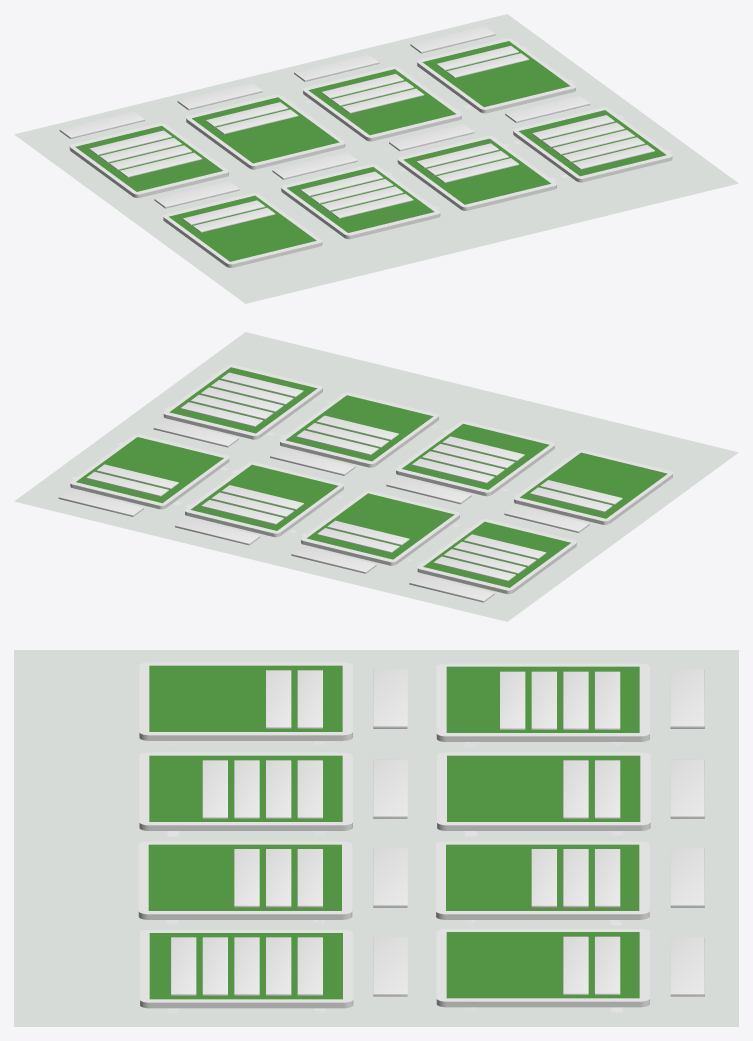
Rendered from notice_board.glb.
The picture shows the model from 3 angles, top to bottom: view 1: azimuth 30°, elevation 25°; view 2: azimuth 150°, elevation 25°; view 3: azimuth 270°, elevation 25°; orthographic projection. The views are drawn at different scales.
Parts seen in each view (by area): view 1: Plane, Plane.011, Plane.009, Plane.001, Plane.013, Plane.015, Plane.003, Plane.008, Plane.005, Cube.020, Cube.036, Cube.004 (+30 smaller); view 2: Plane, Plane.009, Plane.011, Plane.001, Plane.013, Plane.015, Plane.008, Plane.003, Plane.005, Cube.020, Cube.004, Cube.019 (+30 smaller); view 3: Plane, Plane.001, Plane.011, Plane.009, Plane.015, Plane.013, Plane.003, Plane.008, Plane.005, Cube.004, Cube.015, Cube.016 (+30 smaller).
Boxes of the visible parts, left/top/right/bottom form: Plane: left=14, top=14, right=738, bottom=303; Plane.011: left=186, top=94, right=345, bottom=169; Plane.009: left=417, top=38, right=575, bottom=113; Plane.001: left=163, top=193, right=322, bottom=267; Plane.013: left=303, top=66, right=461, bottom=141; Plane.015: left=397, top=136, right=556, bottom=210; Plane.003: left=281, top=164, right=440, bottom=239; Plane.008: left=69, top=123, right=228, bottom=197; Plane.005: left=513, top=107, right=672, bottom=182; Cube.020: left=272, top=152, right=357, bottom=179; Cube.036: left=294, top=54, right=379, bottom=81; Cube.004: left=154, top=181, right=239, bottom=208; Plane: left=14, top=332, right=738, bottom=621; Plane.009: left=70, top=434, right=229, bottom=509; Plane.011: left=301, top=490, right=459, bottom=565; Plane.001: left=514, top=450, right=672, bottom=524; Plane.013: left=185, top=462, right=343, bottom=537; Plane.015: left=280, top=392, right=438, bottom=467; Plane.008: left=417, top=519, right=576, bottom=594; Plane.003: left=396, top=421, right=554, bottom=496; Plane.005: left=163, top=364, right=322, bottom=439; Cube.020: left=386, top=476, right=471, bottom=504; Cube.004: left=504, top=505, right=589, bottom=532; Cube.019: left=291, top=546, right=376, bottom=573; Plane: left=14, top=650, right=738, bottom=1026; Plane.001: left=139, top=662, right=352, bottom=740; Plane.011: left=437, top=752, right=650, bottom=830; Plane.009: left=436, top=929, right=649, bottom=1007; Plane.015: left=138, top=841, right=352, bottom=919; Plane.013: left=436, top=841, right=649, bottom=919; Plane.003: left=139, top=752, right=352, bottom=830; Plane.008: left=436, top=663, right=649, bottom=741; Plane.005: left=140, top=930, right=353, bottom=1008; Cube.004: left=373, top=669, right=407, bottom=728; Cube.015: left=670, top=669, right=704, bottom=728; Cube.016: left=373, top=937, right=407, bottom=996.
Bounding box in the file's own units: 14.1 × 0.1248 × 11.46.
